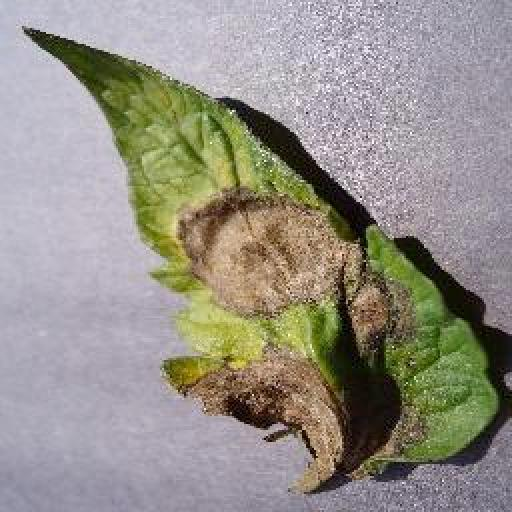disease_tomato: (18, 18, 504, 498)
